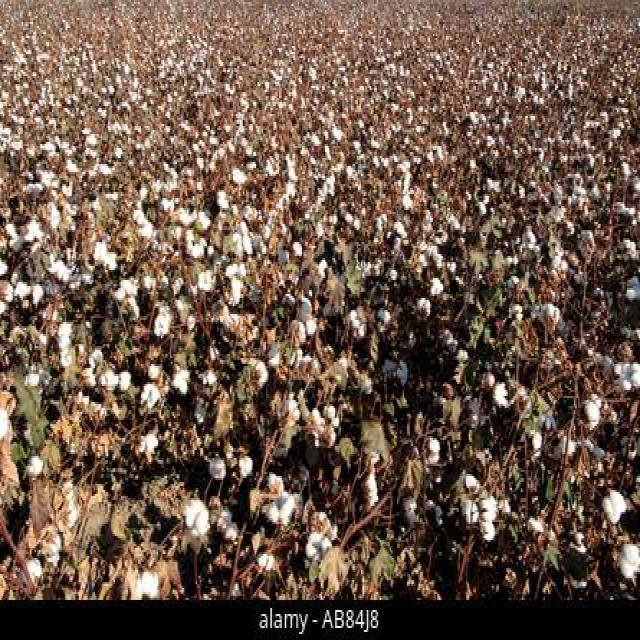Late_blight: (463, 476, 497, 539), (266, 474, 295, 527), (600, 484, 622, 526), (226, 264, 244, 308), (186, 502, 207, 536), (172, 364, 190, 398)
